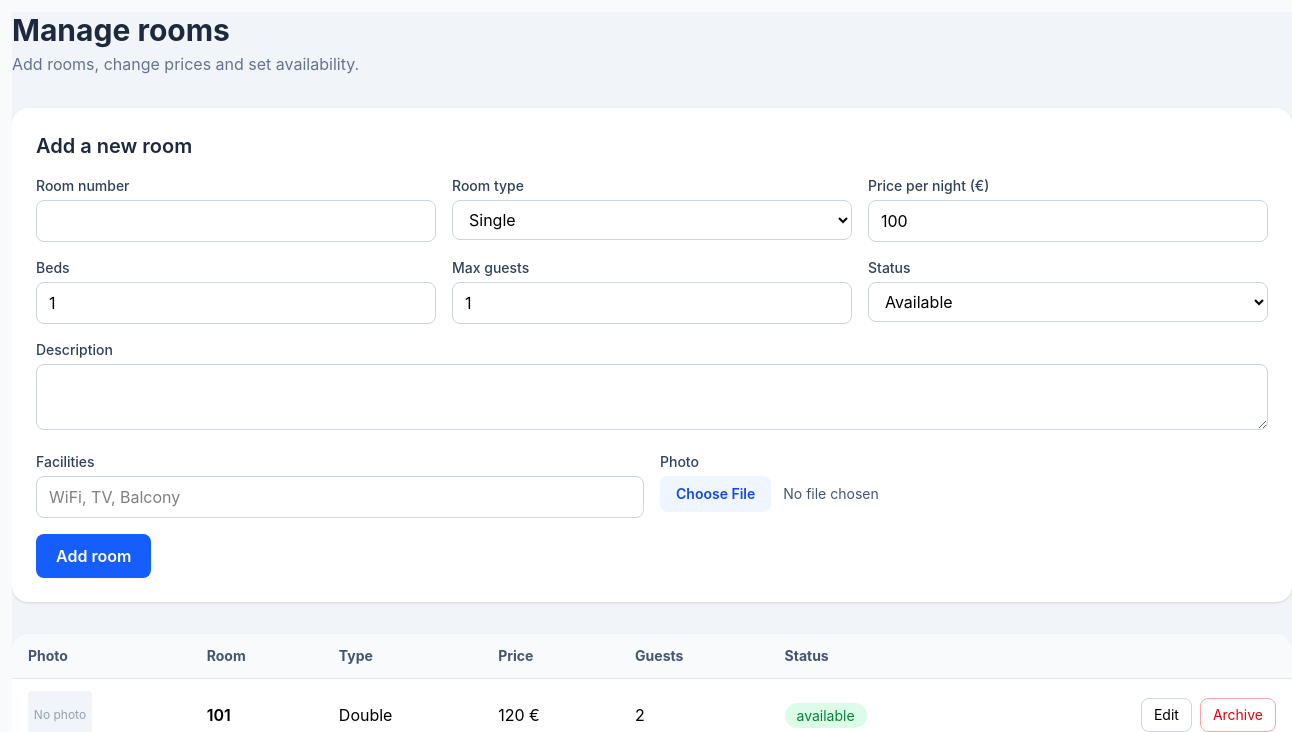
Test: AdminRoomsPage › archives a room after confirming
Click the button "Archive" at coordinates (1238, 715), box [1200,698,1276,731]
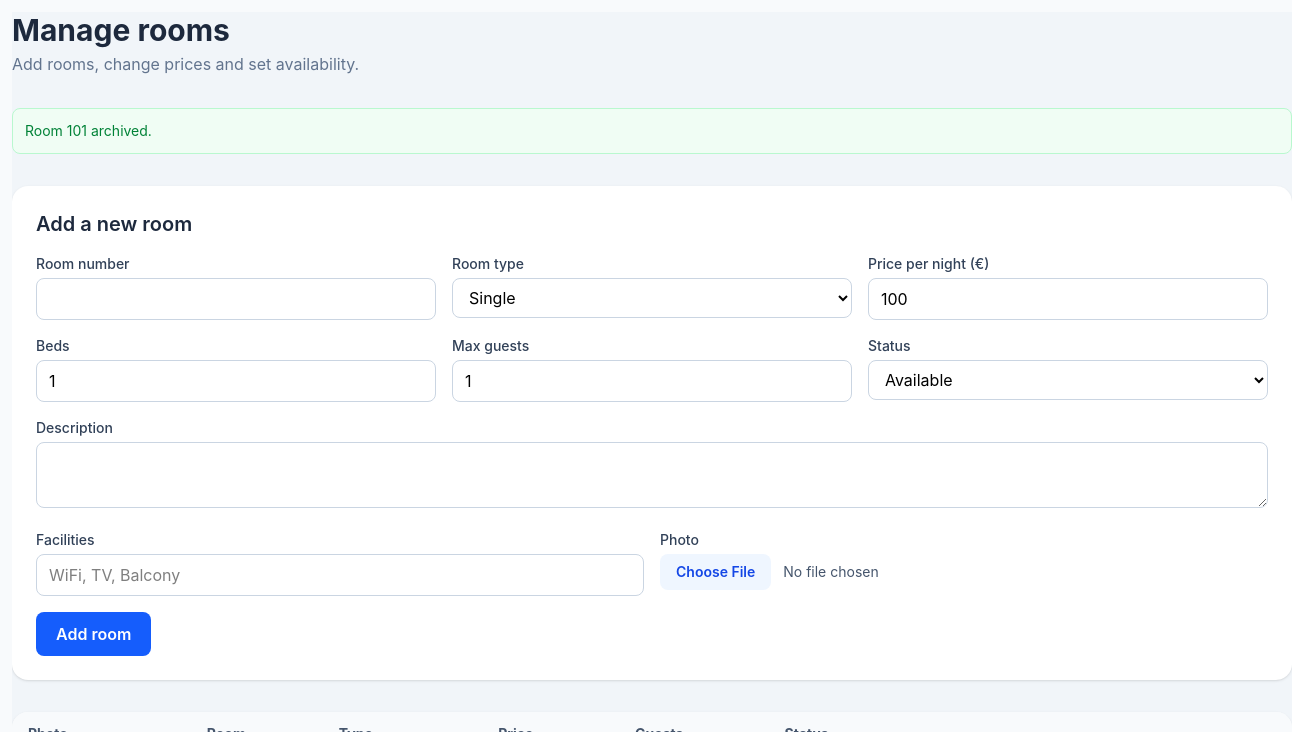
Expected: the text "Room 101 archived." is shown, [12,108,1291,154]
